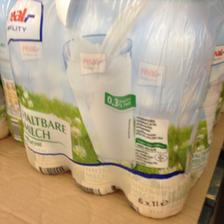Milch: (127, 0, 200, 218), (68, 0, 126, 194), (7, 4, 69, 176)
